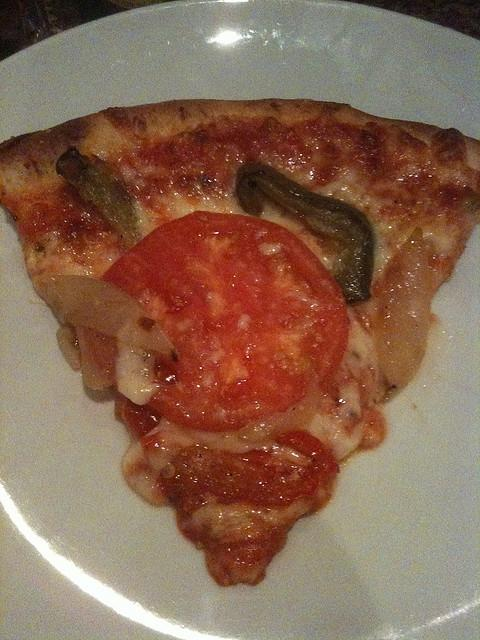onion: (35, 276, 180, 362), (373, 228, 431, 389), (238, 386, 320, 442), (115, 339, 158, 405), (77, 326, 117, 389), (57, 324, 81, 372)
tomato: (99, 210, 348, 433)
